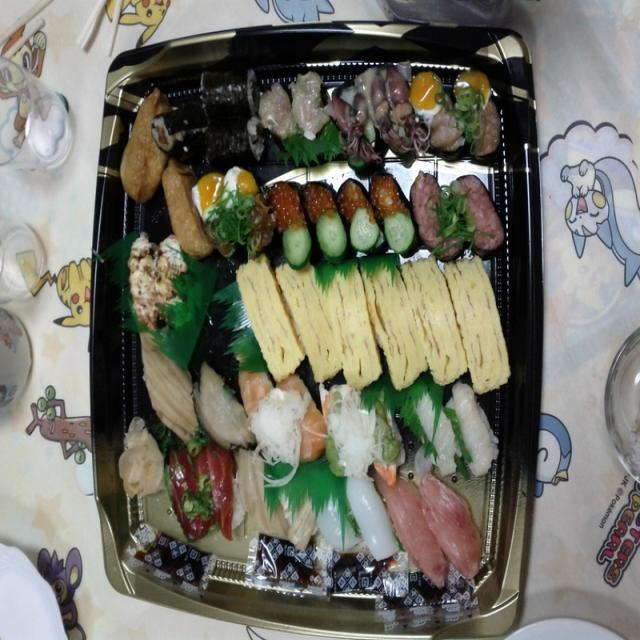Sushi: (69, 22, 538, 640)
